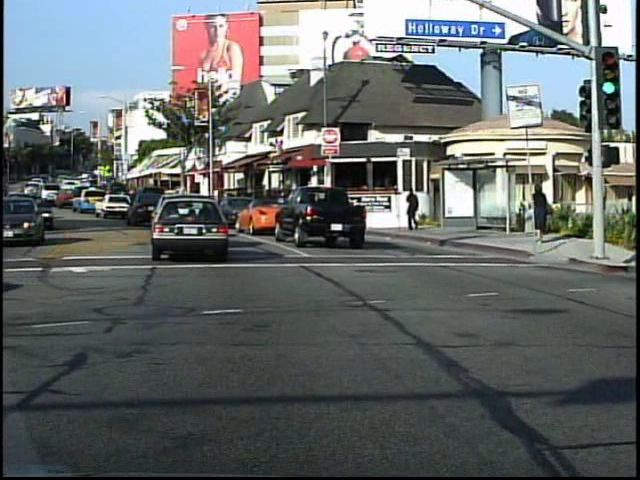person: (532, 182, 557, 248), (404, 186, 423, 235)
